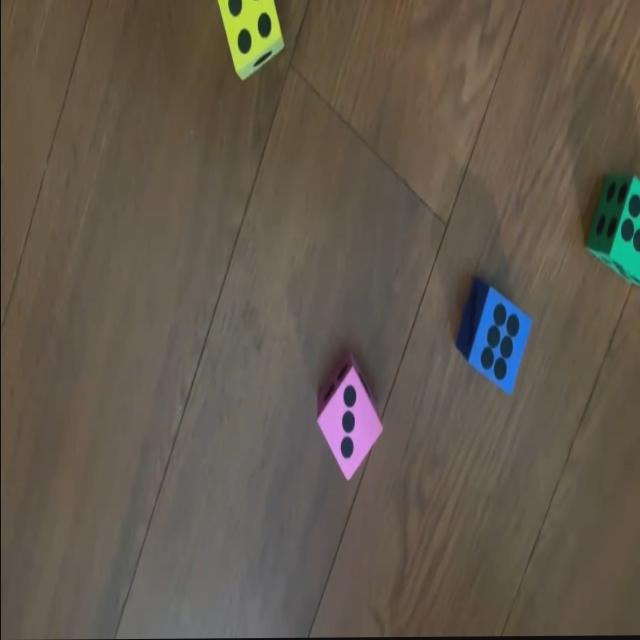cube: (456, 287, 532, 398), (585, 168, 640, 288)
